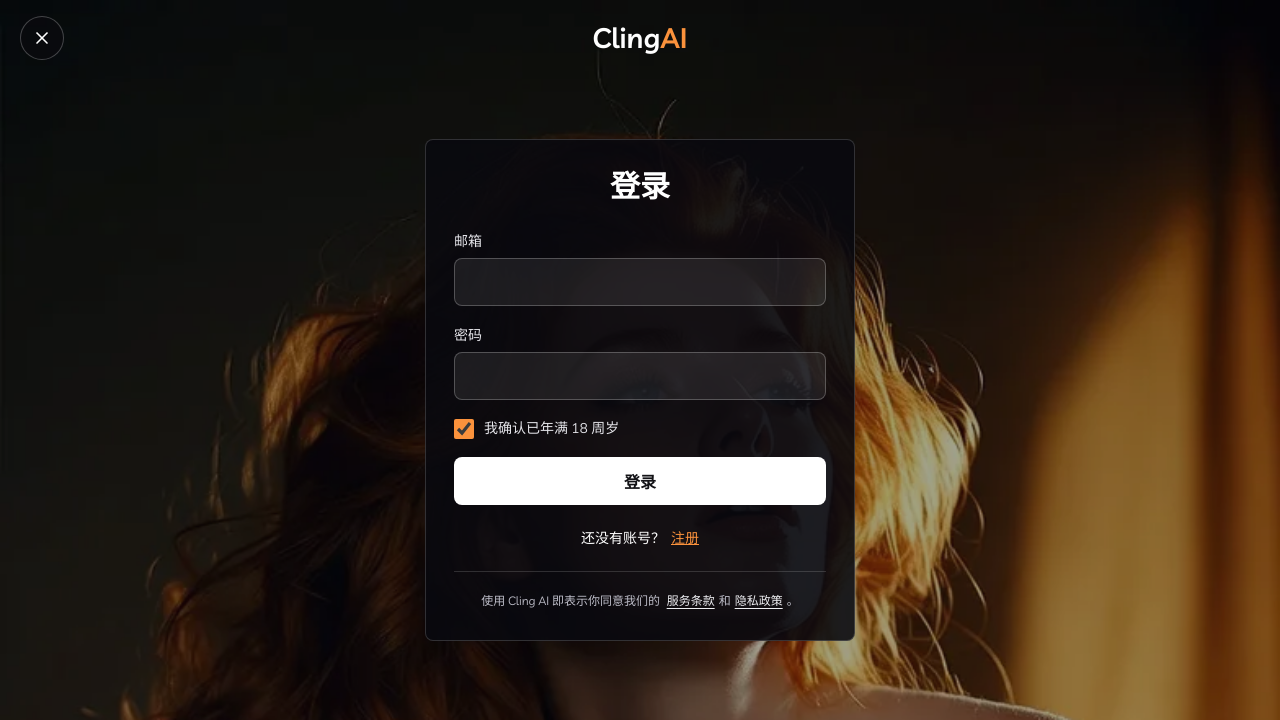
Test: Go 自有账号入口 › 登录后的会话恢复失败会继续向登录页传播错误
The width and height of the screenshot is (1280, 720).
Type "test@example.com" into the field labelled "邮箱" at {"x": 640, "y": 282}, box [454, 258, 826, 306]
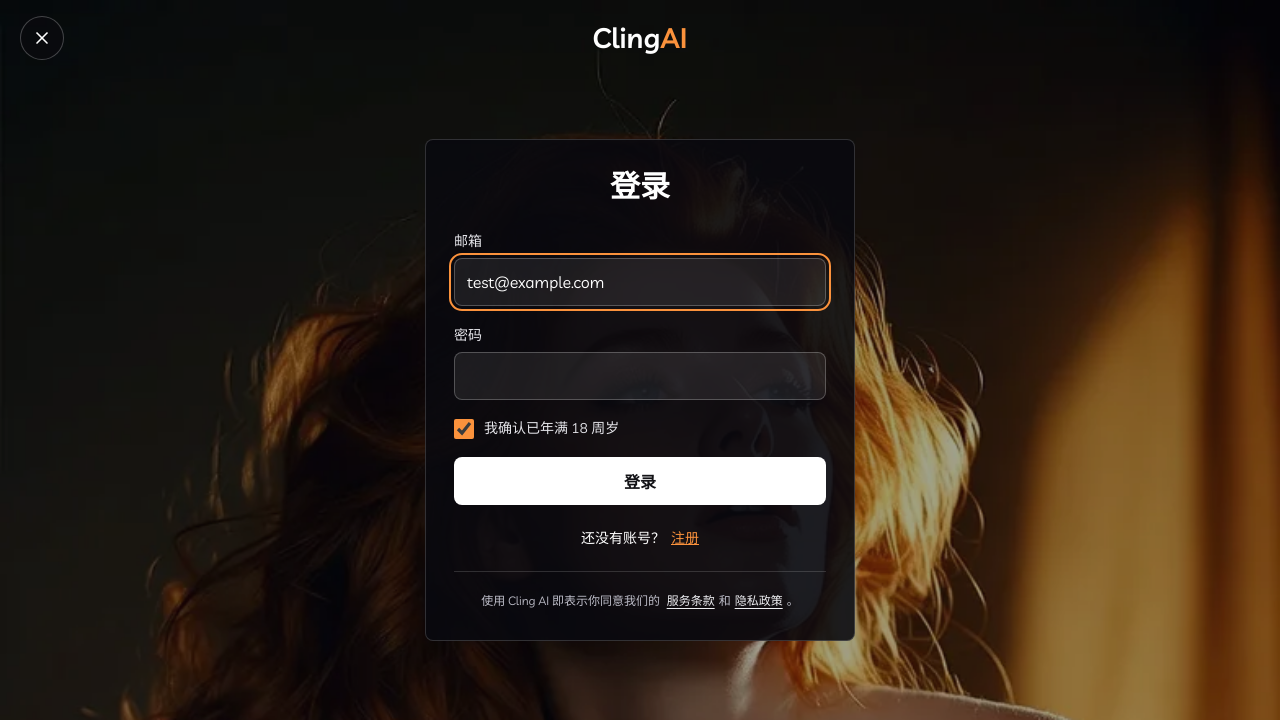
Type "password123" into the password field labelled "密码" at {"x": 640, "y": 376}, box [454, 352, 826, 400]
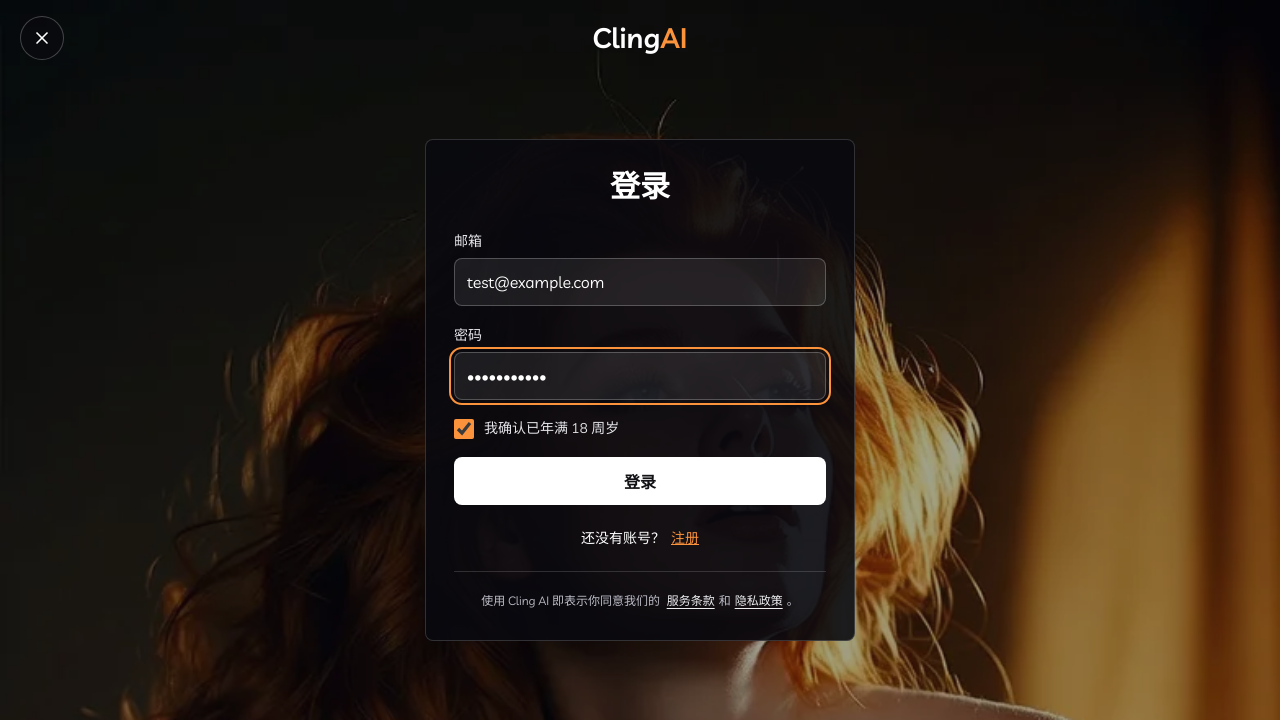
Click the button "登录" at {"x": 640, "y": 481}, box [454, 457, 826, 505]
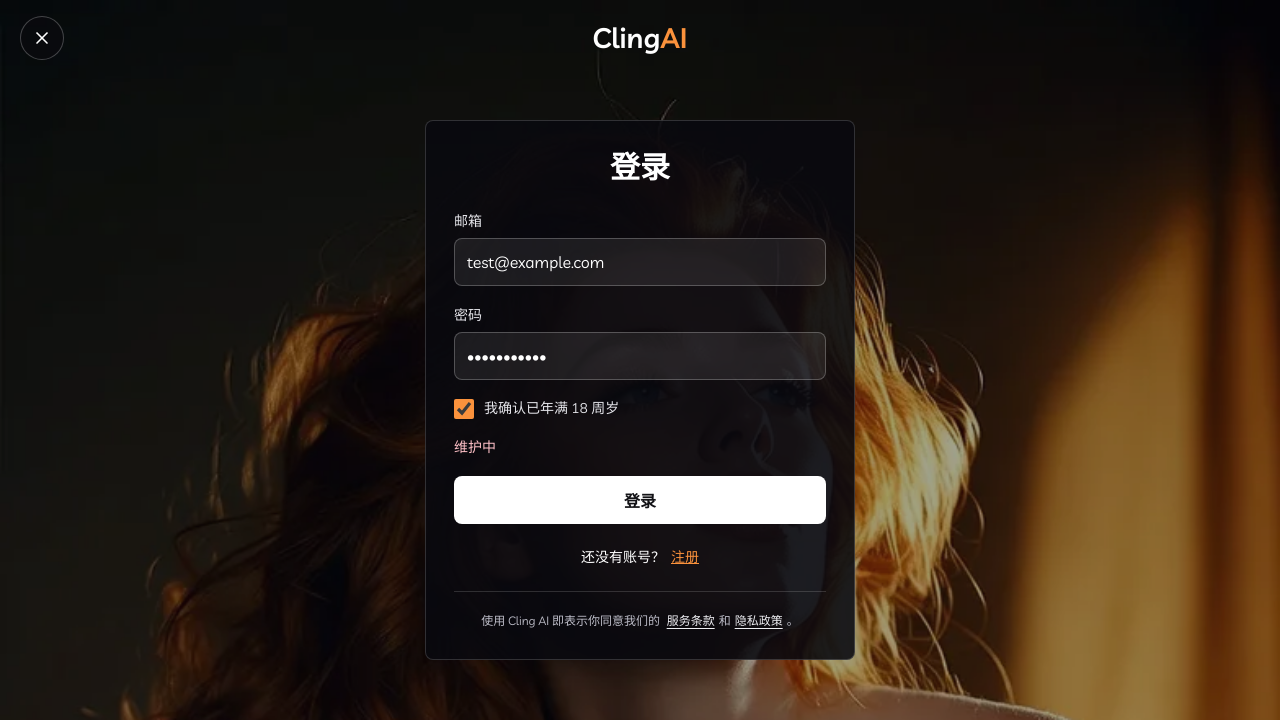
Now the message reads "维护中", box [454, 438, 496, 456]
